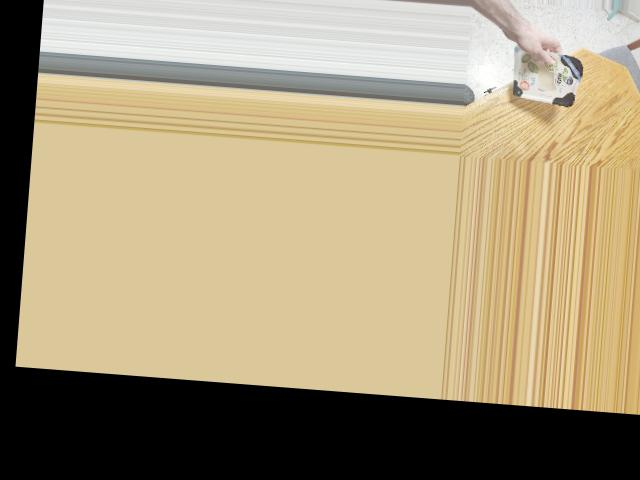cheese: (501, 45, 587, 101)
